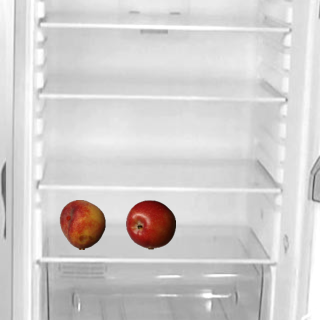Apple Braeburn: (125, 199, 175, 249)
Peach: (57, 199, 107, 249)
